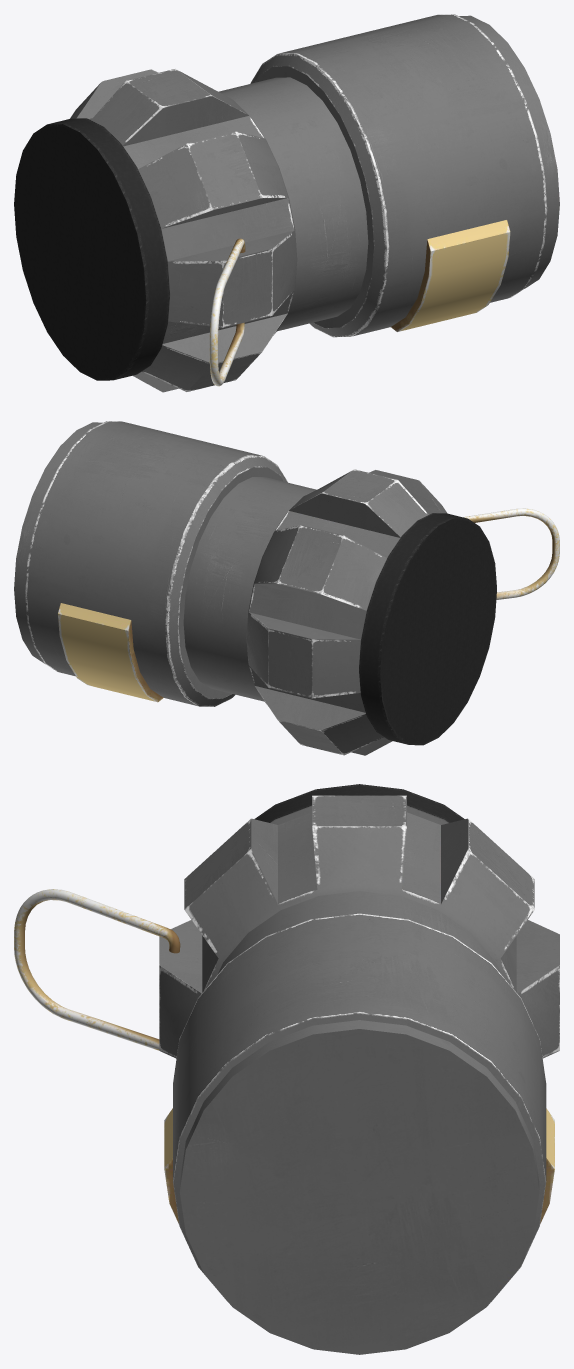
File: pommel_20_r_b.glb
3 renders of one model, top to bottom at view 1: azimuth 30°, elevation 25°; view 2: azimuth 150°, elevation 25°; view 3: azimuth 270°, elevation 25°, orthographic. The views are drawn at different scales.
Visible parts, largest first — view 1: pommel_20_r_b_lod0; view 2: pommel_20_r_b_lod0; view 3: pommel_20_r_b_lod0.
Part boxes in pixels (x1,y1,x2,y2): pommel_20_r_b_lod0: [14, 14, 559, 392]; pommel_20_r_b_lod0: [14, 421, 559, 755]; pommel_20_r_b_lod0: [14, 784, 559, 1354].
Size of what is drawn, in the model's own units: 0.0502 by 0.0331 by 0.045.
1 material, 1 textured.
